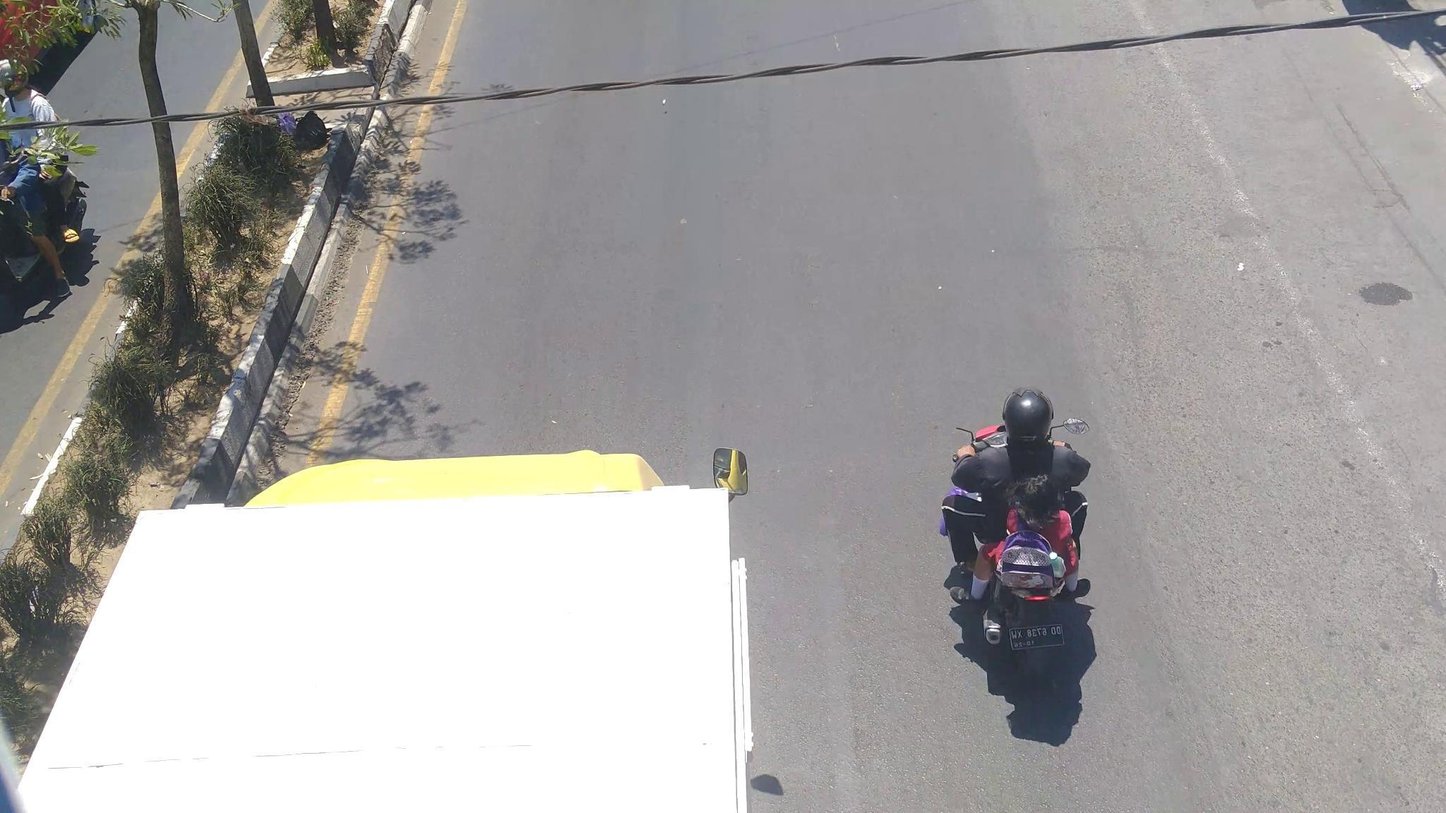Helmet: (998, 379, 1063, 456)
bike: (943, 409, 1099, 685)
no-helmet: (1002, 471, 1065, 532)
rider: (941, 381, 1093, 583), (963, 468, 1092, 620)
